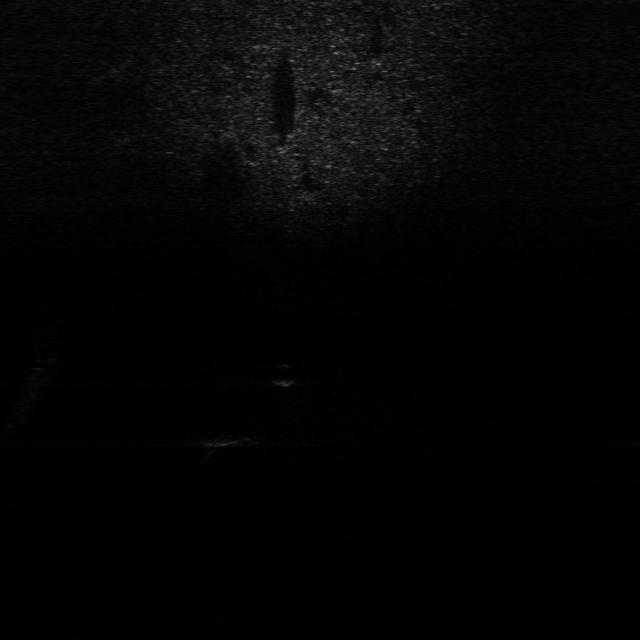ball: (268, 361, 301, 389)
square cage: (200, 422, 256, 452)
